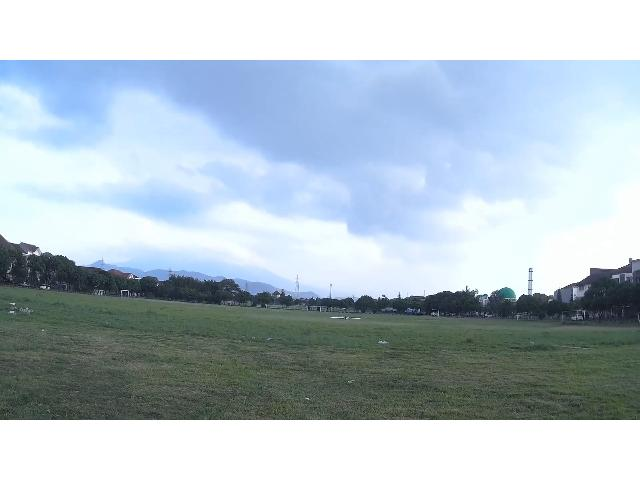Anti-Drone: (323, 308, 361, 326)
